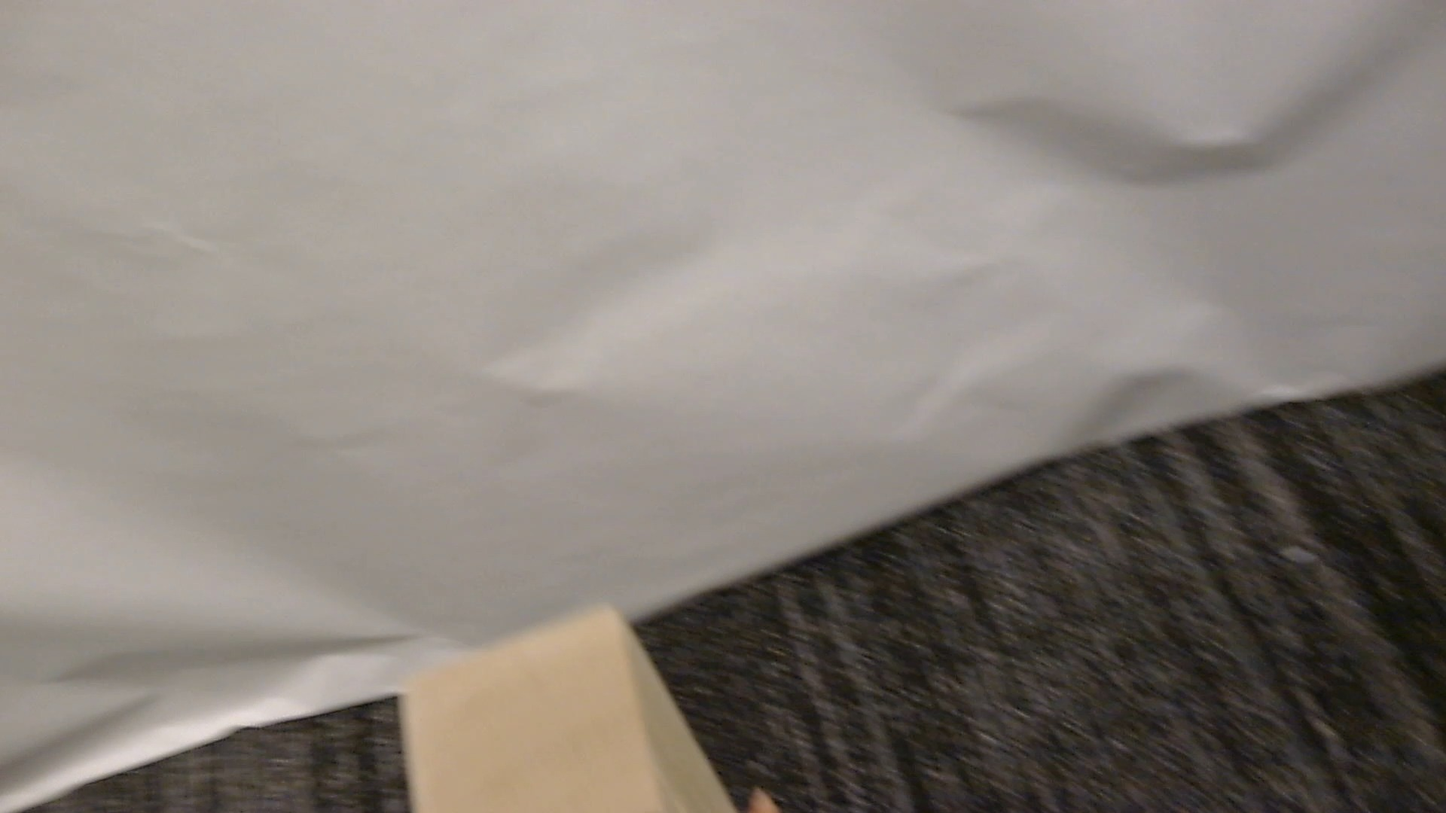Wooden Block: (400, 607, 739, 812)
